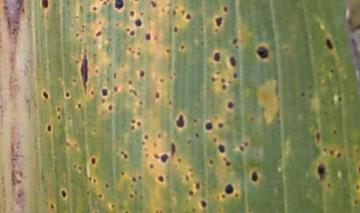tarspot: (80, 47, 88, 94), (256, 46, 269, 59), (318, 163, 326, 180), (177, 115, 185, 129), (169, 143, 177, 156), (325, 37, 333, 50), (251, 171, 259, 183), (225, 183, 233, 195), (42, 90, 51, 100), (115, 1, 124, 10), (161, 153, 169, 163), (213, 52, 221, 62), (215, 16, 223, 26), (128, 88, 138, 96), (229, 55, 236, 66), (60, 188, 67, 199), (41, 1, 50, 9), (101, 88, 110, 96), (315, 131, 320, 144), (205, 122, 213, 130), (138, 70, 145, 79), (145, 32, 152, 41), (135, 19, 142, 27), (128, 10, 135, 18), (185, 138, 193, 145), (187, 189, 194, 197), (95, 30, 102, 37), (150, 1, 157, 8), (121, 151, 128, 158), (72, 141, 79, 148), (248, 115, 255, 122), (91, 156, 97, 164), (218, 144, 224, 152), (200, 200, 206, 208), (158, 174, 164, 182), (39, 173, 45, 181), (47, 124, 52, 133), (342, 184, 347, 193), (179, 44, 185, 51), (172, 9, 178, 16), (152, 141, 158, 148), (322, 110, 329, 116), (195, 181, 200, 189), (185, 173, 190, 181), (154, 209, 164, 213), (92, 6, 98, 12), (155, 92, 161, 98), (56, 114, 62, 120), (72, 162, 78, 168), (79, 5, 83, 14), (201, 24, 205, 33), (87, 175, 93, 181), (213, 115, 219, 121), (92, 128, 98, 134), (77, 103, 82, 110), (130, 30, 135, 37), (223, 5, 228, 12), (186, 13, 191, 20), (65, 140, 70, 147), (211, 76, 216, 83), (222, 83, 227, 90), (353, 199, 360, 204), (50, 202, 55, 209), (119, 63, 126, 68), (93, 38, 97, 46), (65, 92, 70, 98), (137, 120, 142, 126), (113, 86, 118, 92), (101, 98, 107, 103), (90, 89, 95, 95), (55, 107, 61, 112), (173, 27, 179, 32), (154, 153, 159, 159), (166, 48, 171, 54), (158, 77, 164, 82), (149, 163, 154, 169), (136, 51, 142, 56), (193, 117, 198, 123), (233, 39, 239, 44), (228, 103, 234, 108), (329, 150, 334, 156), (322, 147, 328, 152), (327, 183, 332, 189), (85, 189, 90, 195), (131, 175, 136, 181), (140, 194, 145, 200), (134, 189, 139, 195), (66, 115, 72, 120), (79, 28, 85, 33), (109, 104, 113, 111), (356, 184, 360, 191), (138, 174, 142, 181), (218, 123, 223, 128), (157, 133, 162, 138), (75, 32, 80, 37), (103, 1, 108, 6), (94, 69, 99, 74), (221, 78, 226, 83), (161, 7, 166, 12), (177, 157, 182, 162), (169, 75, 174, 80), (107, 37, 112, 42), (114, 21, 119, 26), (108, 62, 113, 67), (332, 129, 337, 134), (188, 167, 193, 172), (308, 92, 313, 97), (153, 35, 158, 40), (110, 204, 115, 209), (222, 156, 227, 161), (131, 118, 135, 124), (139, 11, 143, 17), (98, 19, 102, 25), (338, 96, 342, 102), (330, 67, 334, 73), (235, 192, 239, 198), (93, 177, 97, 183), (105, 182, 109, 188), (191, 207, 197, 211), (93, 209, 99, 213), (358, 165, 360, 177), (128, 80, 132, 85), (168, 100, 172, 105), (78, 166, 83, 170), (200, 40, 204, 45), (125, 28, 130, 32), (75, 59, 79, 64), (195, 132, 199, 137), (210, 159, 214, 164), (213, 137, 217, 142), (215, 27, 219, 32), (181, 9, 185, 14), (234, 73, 238, 78), (240, 146, 244, 151), (301, 92, 305, 97), (226, 161, 230, 166), (337, 153, 341, 158), (235, 45, 240, 49), (220, 194, 225, 198), (99, 192, 103, 197), (129, 194, 134, 198), (79, 38, 84, 42), (114, 73, 117, 79), (131, 125, 135, 129), (138, 100, 142, 104), (131, 50, 135, 54), (142, 141, 146, 145), (93, 53, 97, 57), (81, 24, 85, 28), (145, 153, 149, 157), (121, 171, 125, 175), (73, 78, 76, 83), (245, 141, 248, 146), (124, 210, 129, 213), (145, 135, 148, 139), (129, 47, 132, 51), (133, 1, 139, 3)
